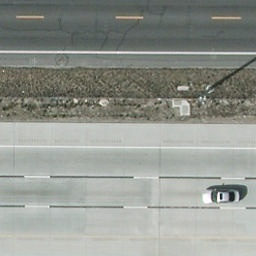car: (201, 190, 242, 204)
